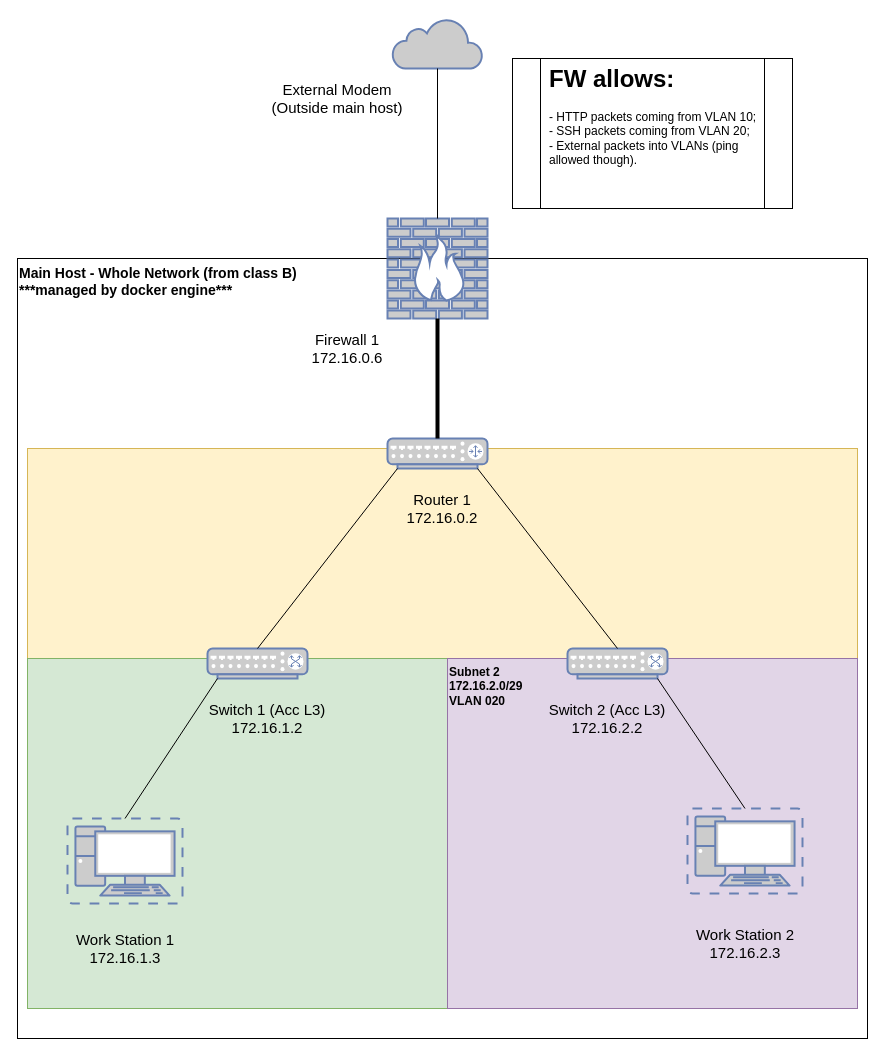
Some shapes in this 885 by 1056 pixel diagram are drawn without their labels. The shapes that lost their labels are listed below. From the top down, each one's box as (x1, y1, x2, y2) in pixels, then its label:
(26, 448, 858, 658): Container 1 - Scenario 1 172.16.0.0/30
(26, 658, 448, 1008): Subnet 1 172.16.1.0/29 VLAN 010
